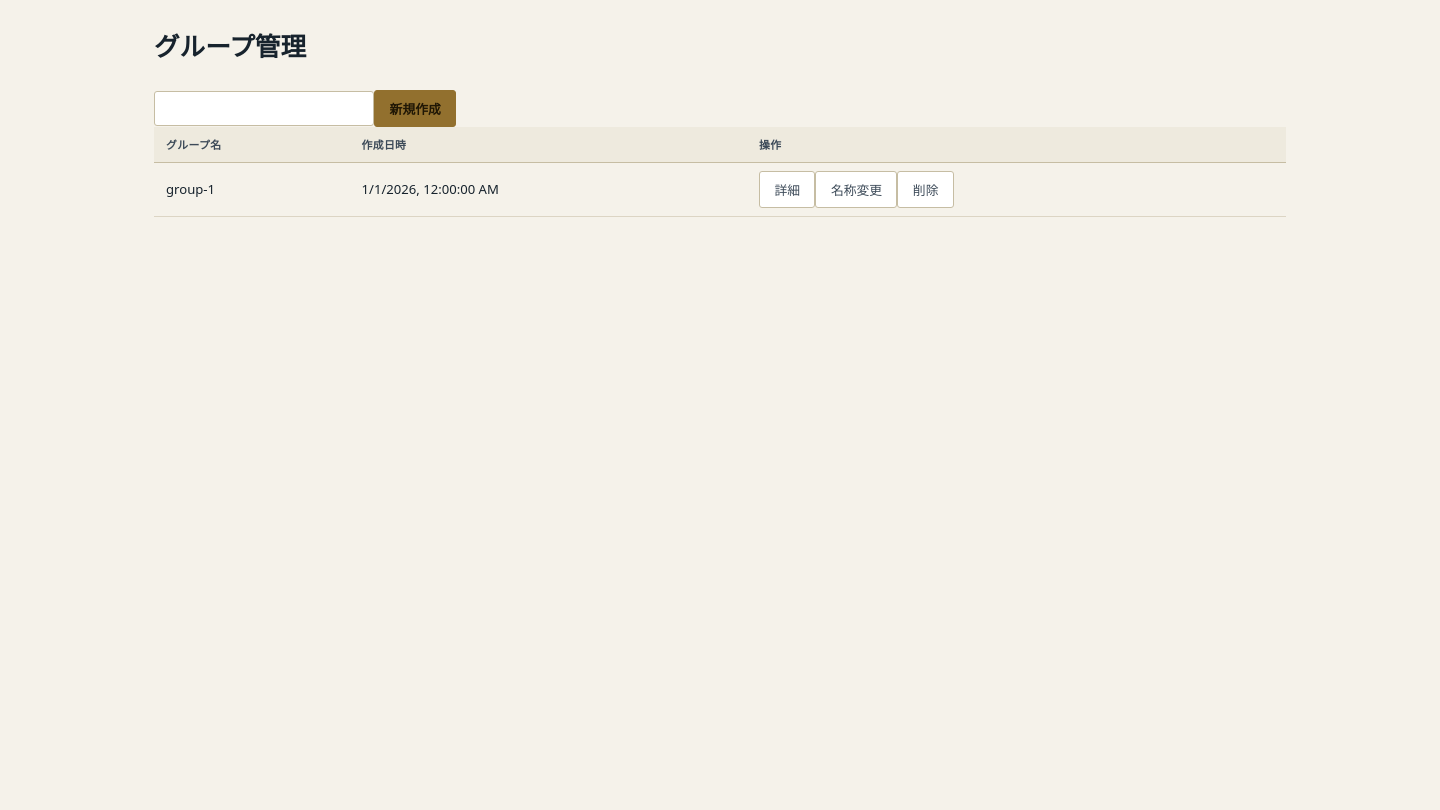
Test case: GroupListPage › deletes a group and shows a success toast
Expected: the text "group-1" is shown, [154,162,350,216]
Click the button with test id "group-table-delete-button": (926,189) [898,171,954,208]
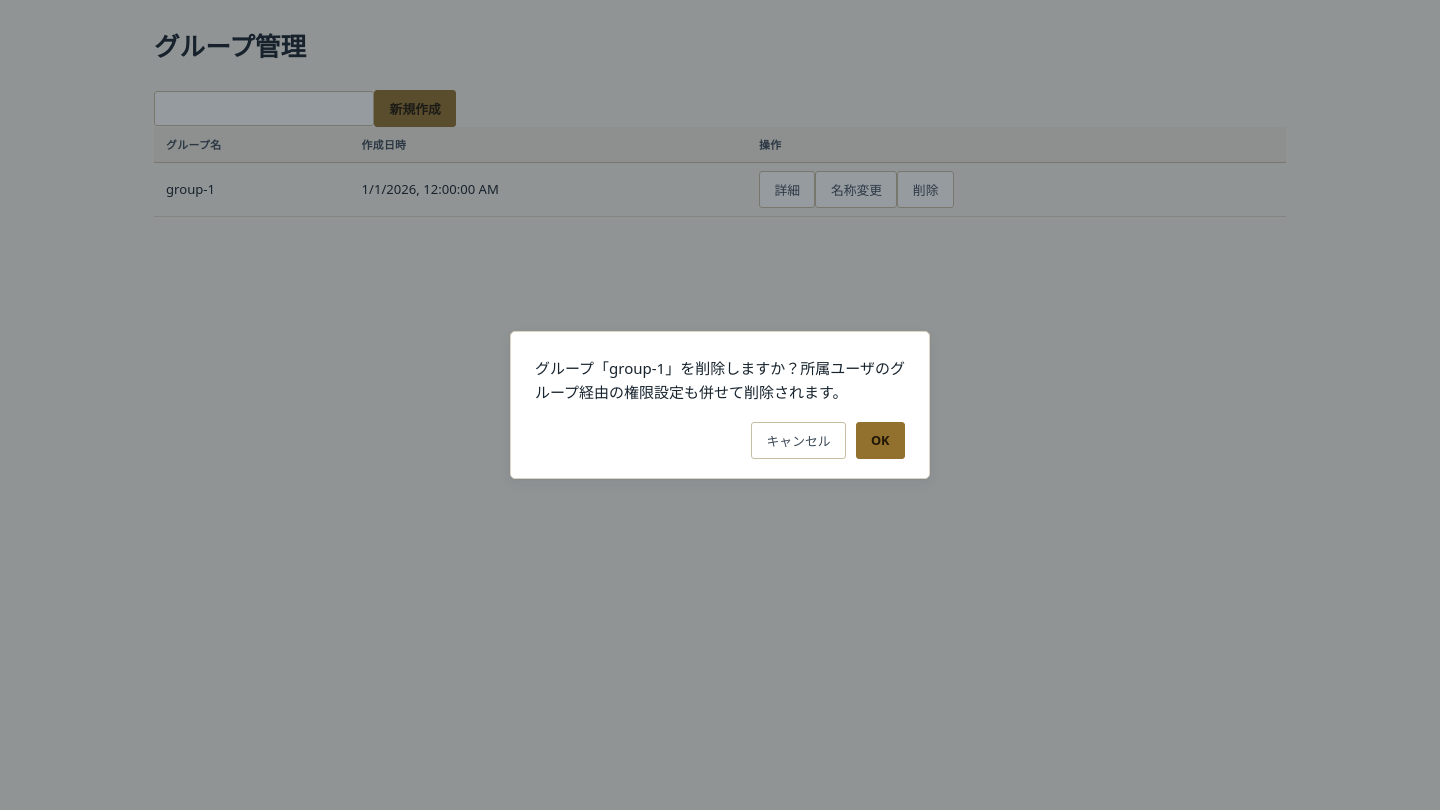
Click the button with test id "confirm-dialog-confirm-button": (880,440) [856,422,905,459]
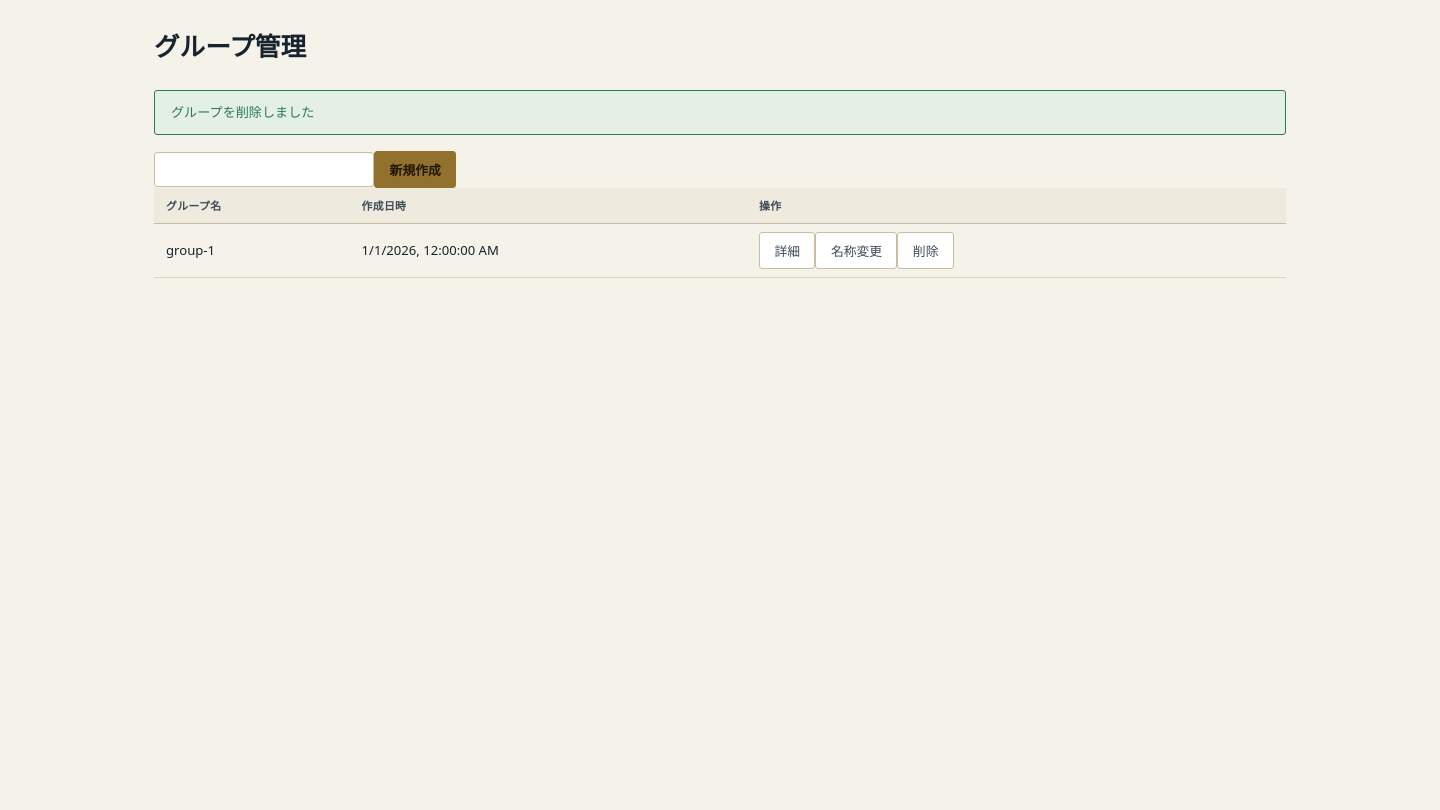
Expected: the message "グループを削除しました" is shown, [154,90,1286,135]
